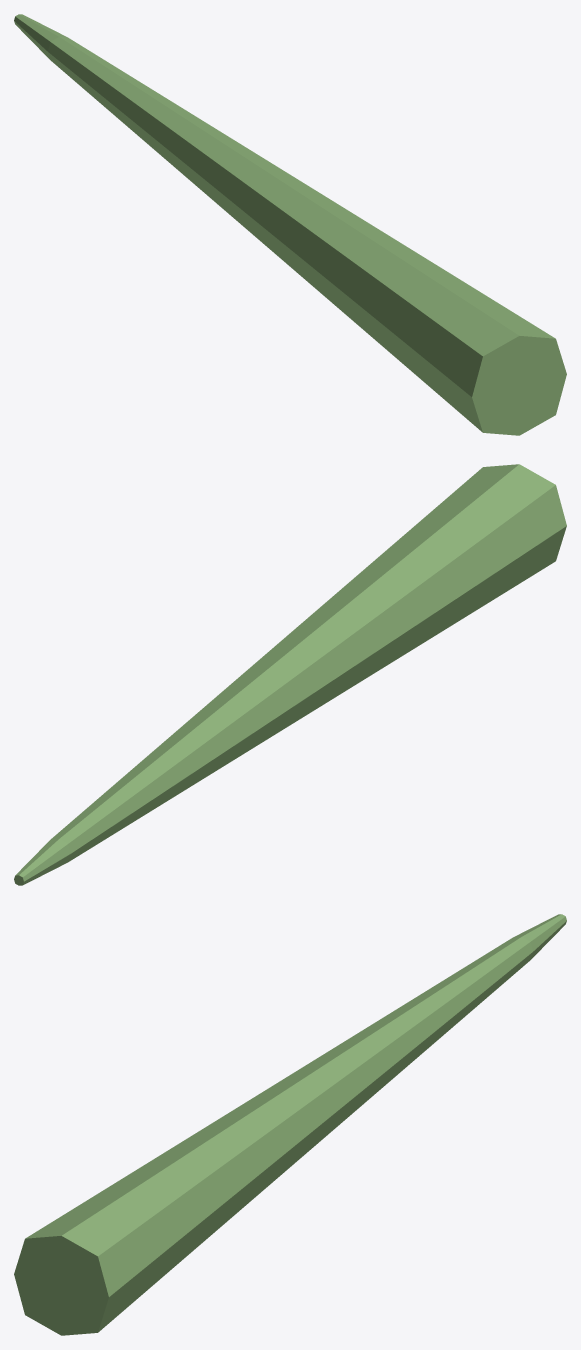
The model's file is Grass_PacificLake_000.fbx.
The picture shows the model from 3 angles, top to bottom: view 1: azimuth 30°, elevation 25°; view 2: azimuth 150°, elevation 25°; view 3: azimuth 330°, elevation 25°; orthographic projection.
Parts seen in each view (by area): view 1: Grass_000; view 2: Grass_000; view 3: Grass_000.
Boxes of the visible parts, x1=… form: Grass_000: x1=14, y1=14, x2=566, y2=435; Grass_000: x1=14, y1=464, x2=566, y2=885; Grass_000: x1=14, y1=914, x2=566, y2=1335.
Bounding box in the file's own units: 18.12 × 18.23 × 165.
